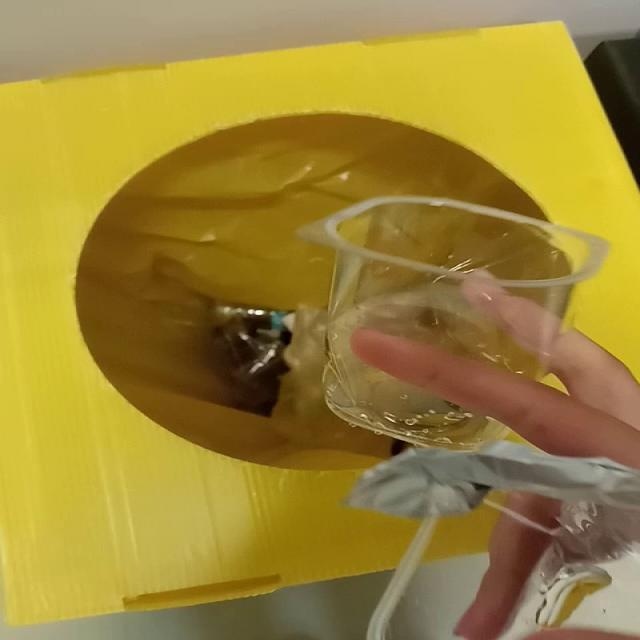Plastic: (297, 198, 609, 450)
